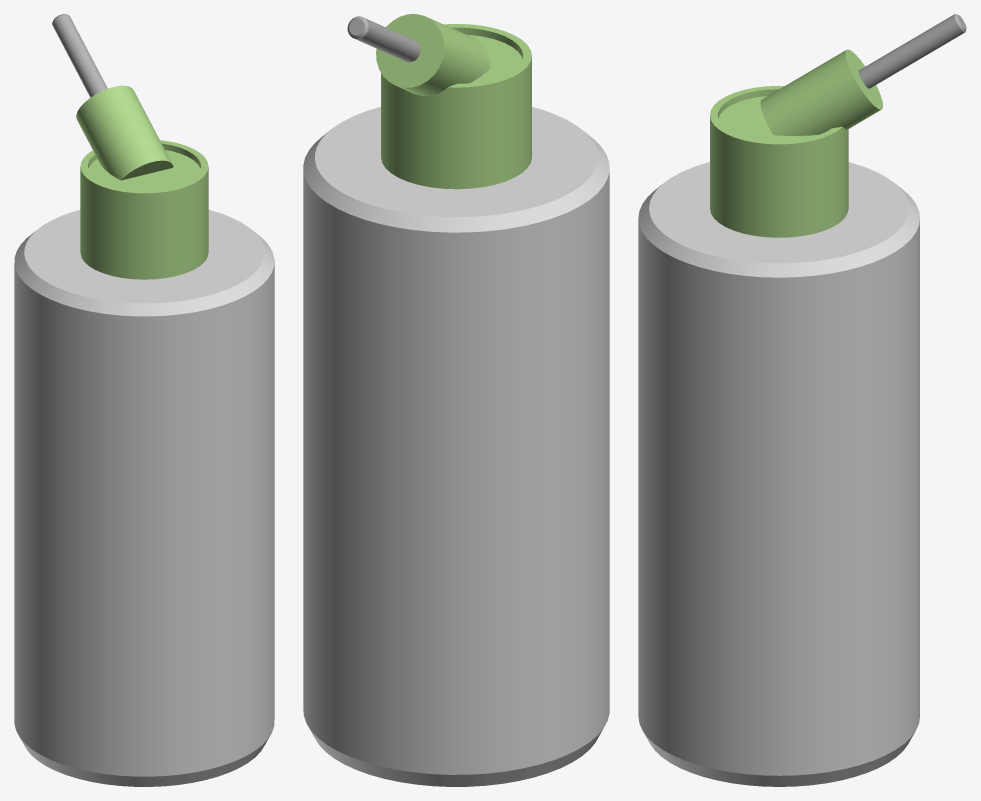
3 renders of one model, left to right at view 1: azimuth 30°, elevation 25°; view 2: azimuth 150°, elevation 25°; view 3: azimuth 270°, elevation 25°, orthographic. The views are drawn at different scales.
Visible parts, largest first — view 1: body, collar, sleeve, rod; view 2: body, collar, sleeve, rod; view 3: body, collar, sleeve, rod.
Boxes of the visible parts, box(x1,y1,x2,y2) form: body: box(14, 210, 274, 786); collar: box(80, 140, 208, 279); sleeve: box(76, 85, 173, 180); rod: box(52, 14, 107, 97); body: box(303, 106, 609, 786); collar: box(381, 23, 531, 189); sleeve: box(376, 14, 490, 96); rod: box(347, 16, 420, 62); body: box(638, 162, 919, 786); collar: box(710, 86, 848, 237); sleeve: box(760, 49, 882, 135); rod: box(858, 14, 966, 88).
Size of the model in its own units: 0.0528 by 0.148 by 0.0615.
